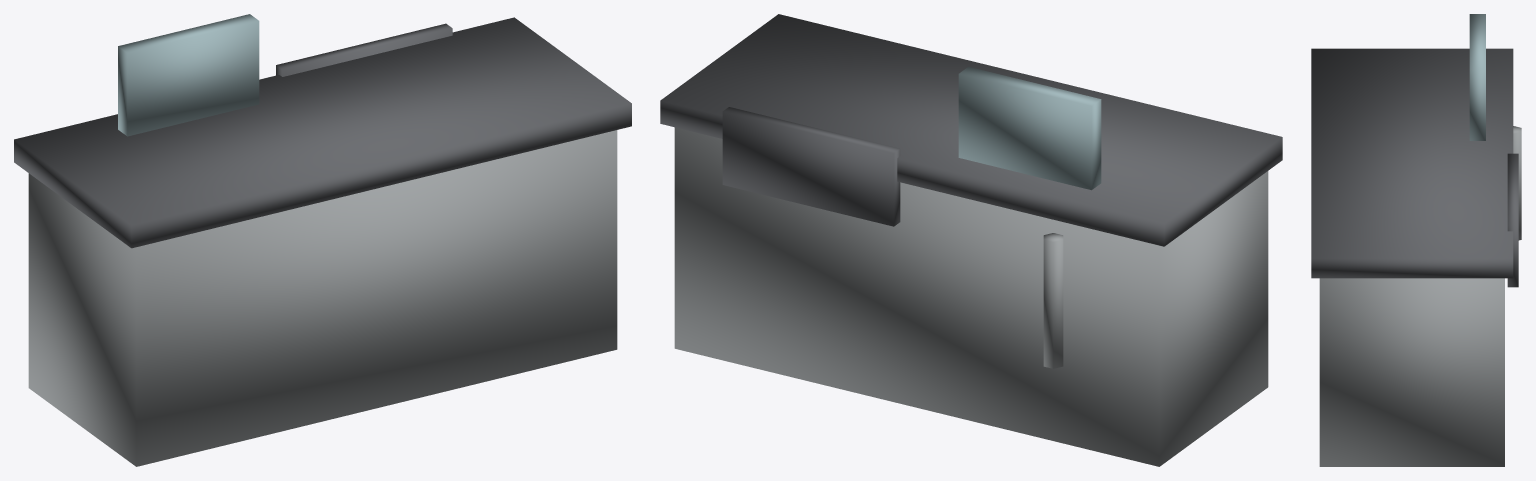
The model's file is police_booking_desk__service.glb.
The picture shows the model from 3 angles, left to right: view 1: azimuth 30°, elevation 25°; view 2: azimuth 150°, elevation 25°; view 3: azimuth 270°, elevation 25°; orthographic projection. The views are drawn at different scales.
Parts seen in each view (by area): view 1: world; view 2: world; view 3: world.
Boxes of the visible parts, x1,y1,x2,y2 form: world: (14, 14, 631, 466); world: (660, 14, 1282, 466); world: (1311, 14, 1521, 466).
Bounding box in the file's own units: 1.82 × 1.15 × 0.7703.
